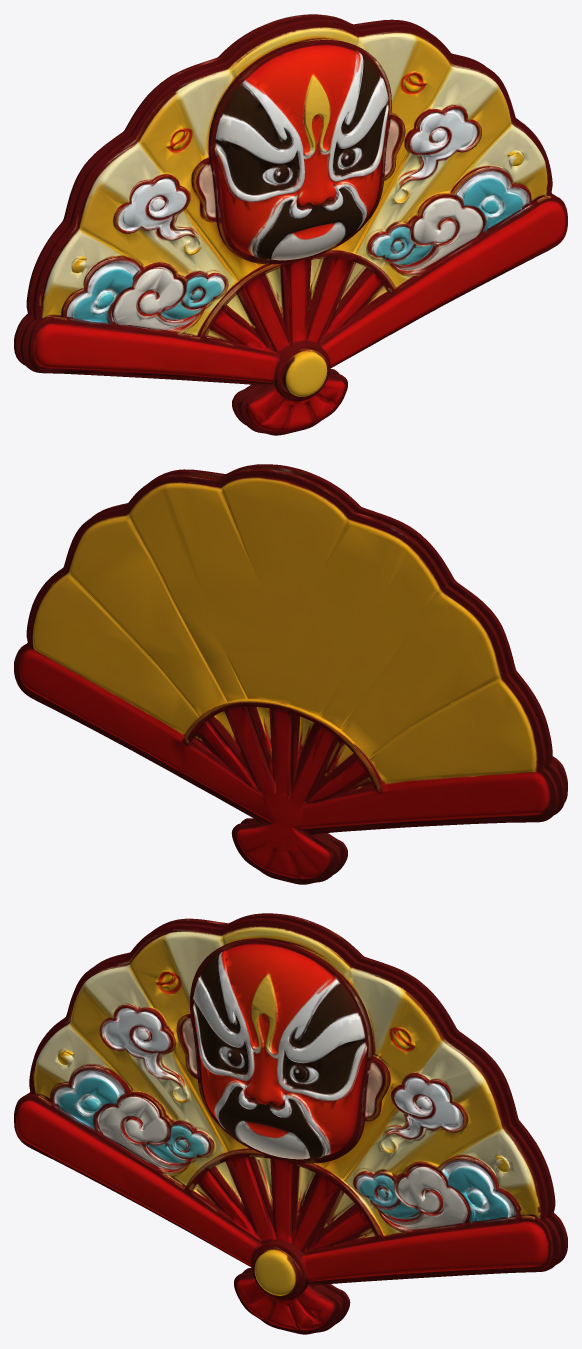
The model's file is 京剧扇子.glb.
The picture shows the model from 3 angles, top to bottom: view 1: azimuth 30°, elevation 25°; view 2: azimuth 150°, elevation 25°; view 3: azimuth 330°, elevation 25°; orthographic projection.
Visible parts, largest first — view 1: node_0; view 2: node_0; view 3: node_0.
Part boxes in pixels (bbox=[...]): node_0: bbox=[14, 14, 567, 435]; node_0: bbox=[14, 464, 567, 884]; node_0: bbox=[14, 913, 567, 1334].
Size of the model in its own units: 1.17 by 0.8382 by 0.1456.
1 material, 1 textured.
